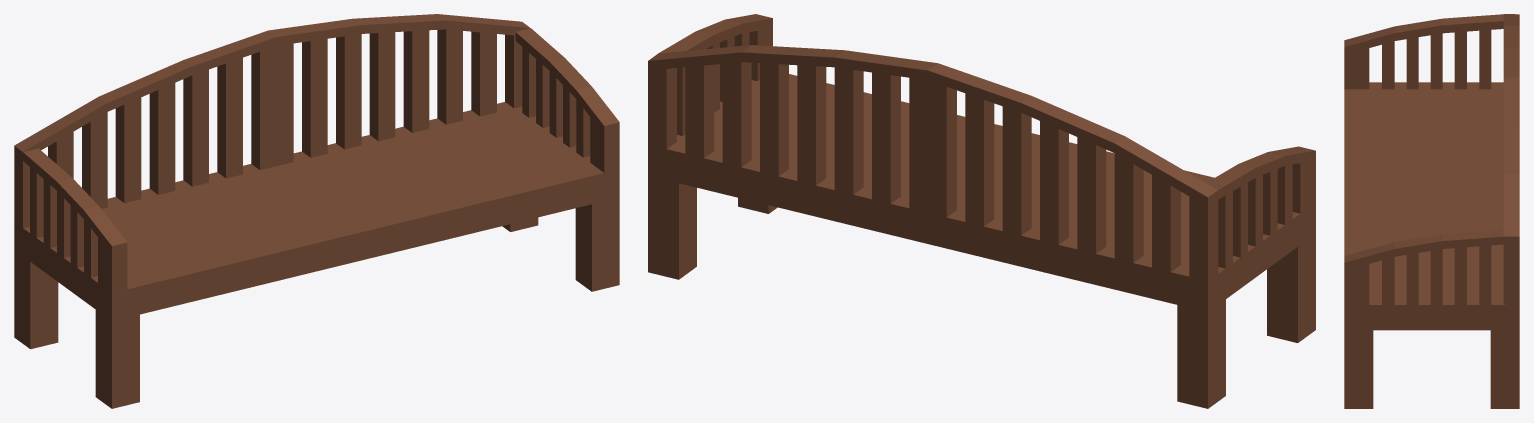
The model's file is Bench.fbx.
3 renders of one model, left to right at view 1: azimuth 30°, elevation 25°; view 2: azimuth 150°, elevation 25°; view 3: azimuth 270°, elevation 25°, orthographic. The views are drawn at different scales.
Visible parts, largest first — view 1: Cube.002; view 2: Cube.002; view 3: Cube.002.
Part boxes in pixels (left/top/right/bottom): Cube.002: left=14, top=14, right=619, bottom=408; Cube.002: left=648, top=14, right=1315, bottom=408; Cube.002: left=1344, top=14, right=1519, bottom=408.
Bounding box in the file's own units: 300 × 138 × 100.
